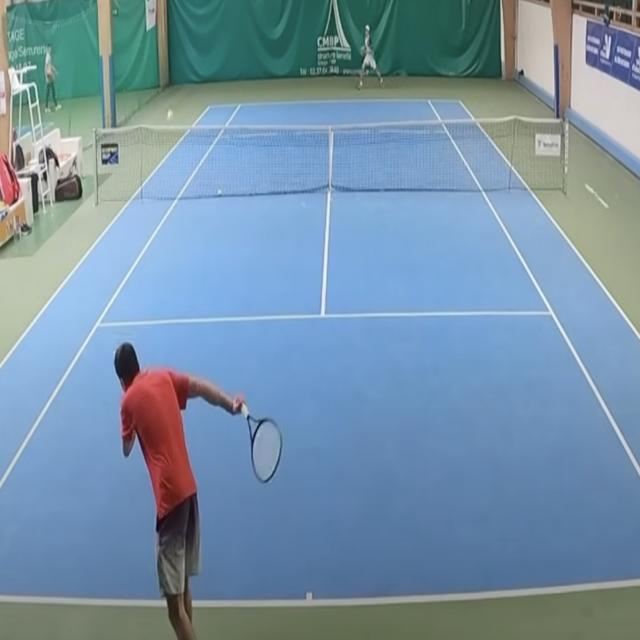ball: (167, 110, 173, 122), (217, 188, 222, 197)
